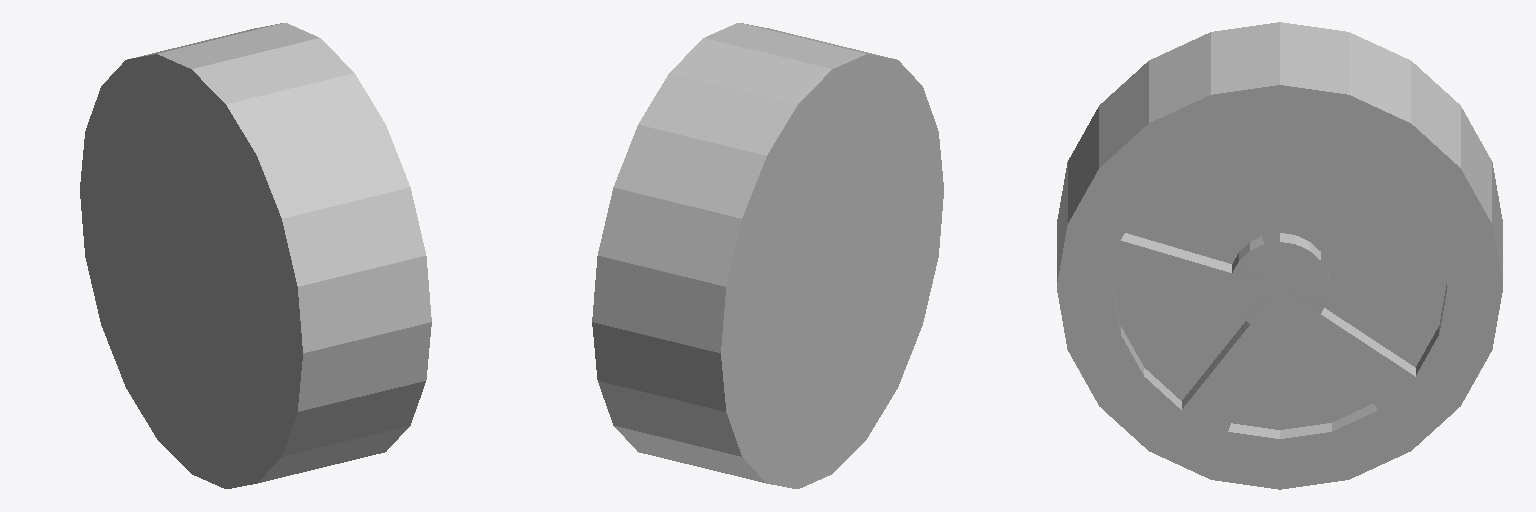
Rendered from Wheel.obj.
The picture shows the model from 3 angles: view 1: azimuth 30°, elevation 25°; view 2: azimuth 150°, elevation 25°; view 3: azimuth 270°, elevation 25°; orthographic projection.
Parts seen in each view (by area): view 1: polySurface9 polySurface1 pCylinder3; view 2: polySurface9 polySurface1 pCylinder3; view 3: polySurface9 polySurface1 pCylinder3.
Boxes of the visible parts, x1=… form: polySurface9 polySurface1 pCylinder3: x1=80, y1=23, x2=431, y2=488; polySurface9 polySurface1 pCylinder3: x1=592, y1=23, x2=943, y2=488; polySurface9 polySurface1 pCylinder3: x1=1057, y1=22, x2=1502, y2=489.
Size of the model in its own units: 0.3079 by 0.9227 by 0.9227.